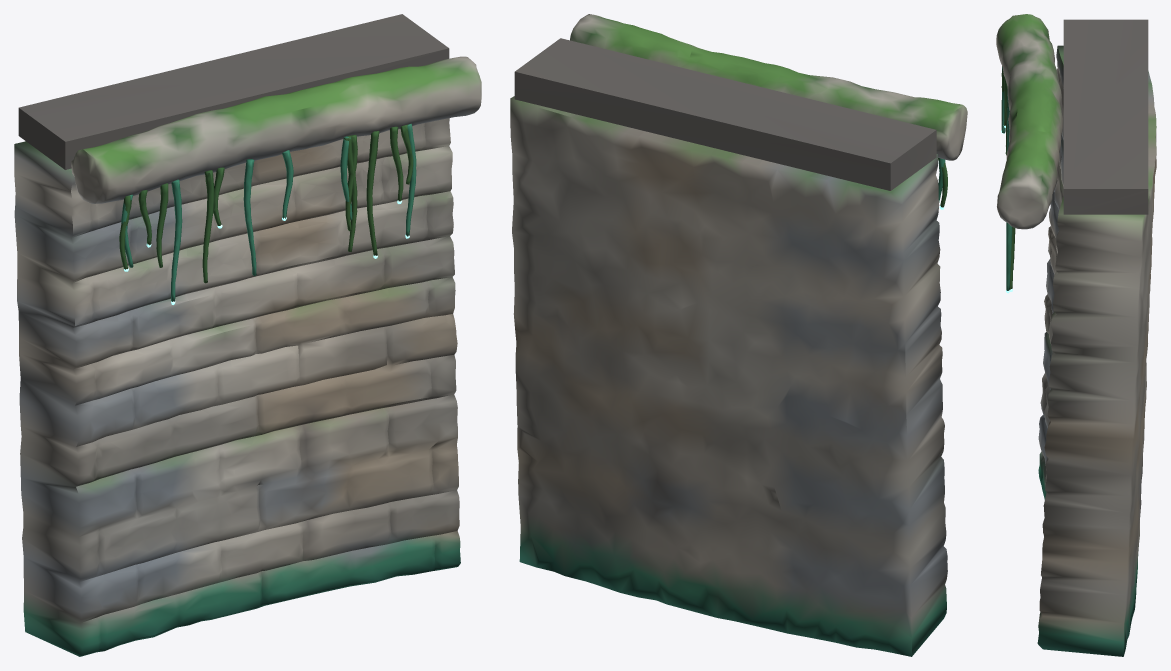
File: grotto_basin_wall_c.glb
3 views of the same model, side by side, from view 1: azimuth 30°, elevation 25°; view 2: azimuth 150°, elevation 25°; view 3: azimuth 270°, elevation 25° (orthographic). The views are drawn at different scales.
Visible parts, largest first — view 1: grotto_basin_wall_c; view 2: grotto_basin_wall_c; view 3: grotto_basin_wall_c.
Boxes of the visible parts, bbox=[...] form: grotto_basin_wall_c: bbox=[14, 14, 481, 656]; grotto_basin_wall_c: bbox=[510, 14, 967, 656]; grotto_basin_wall_c: bbox=[996, 14, 1156, 656].
Bounding box in the file's own units: 29.71 × 36.82 × 11.37.
